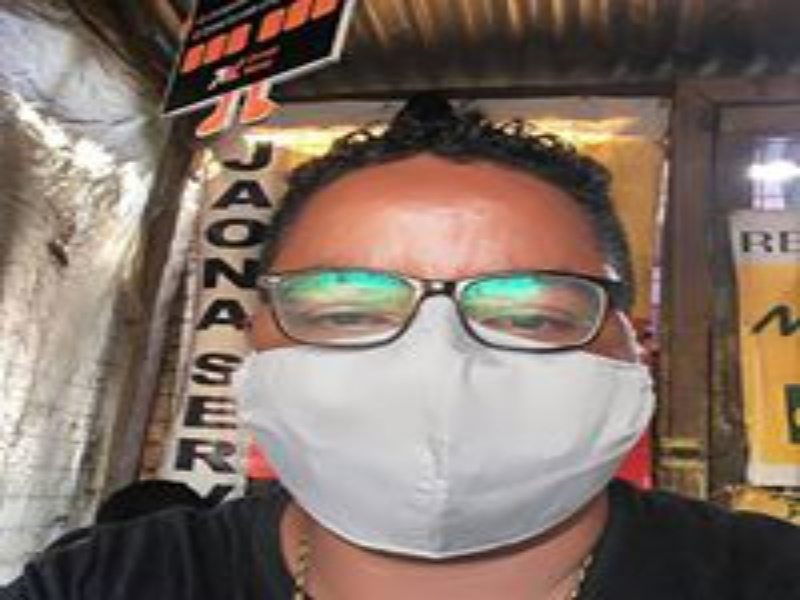ManaoArotava: (227, 115, 638, 562)
